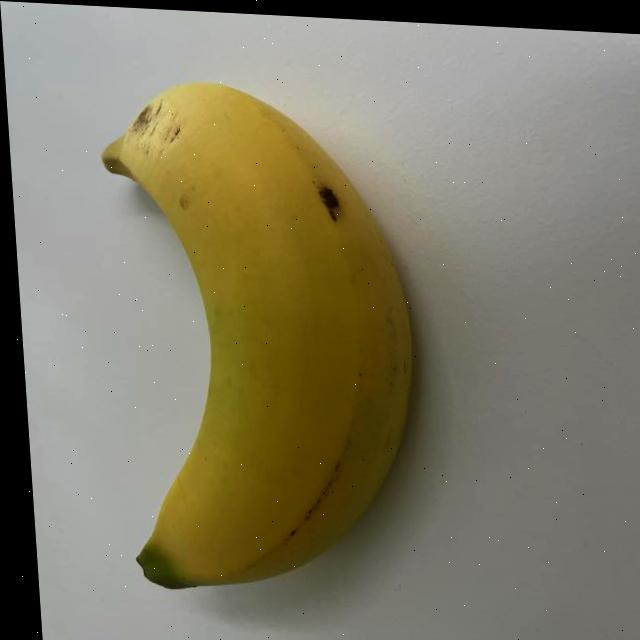banana: (70, 64, 444, 613)
